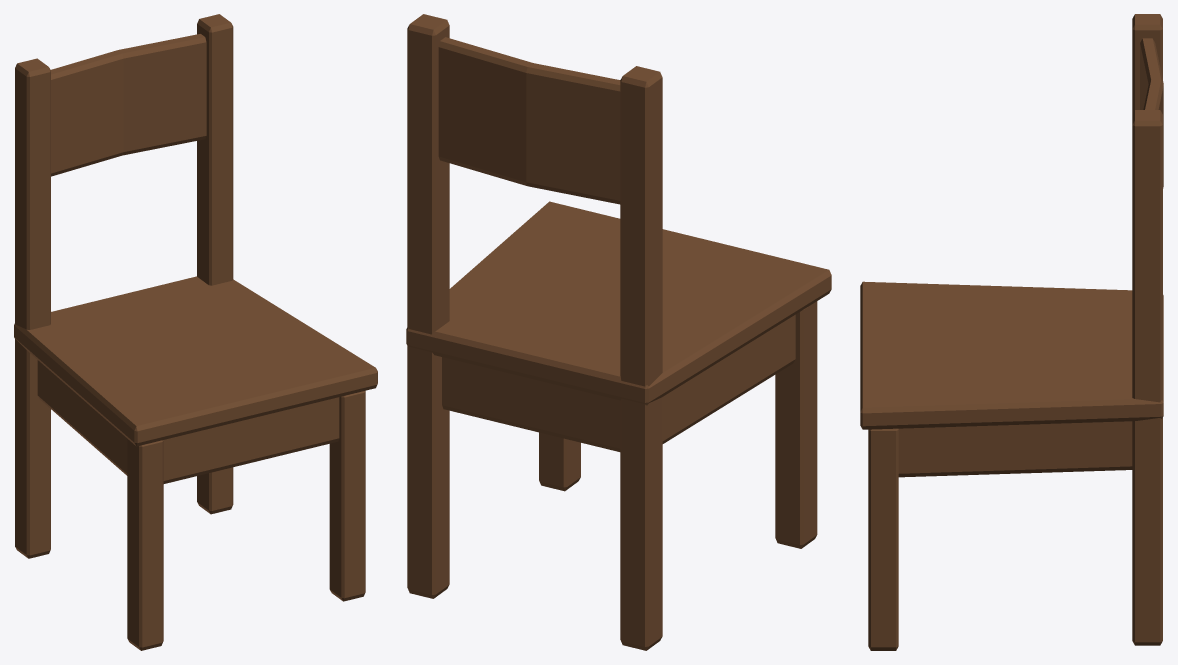
Rendered from tmp_chair.fbx.
3 renders of one model, left to right at view 1: azimuth 30°, elevation 25°; view 2: azimuth 150°, elevation 25°; view 3: azimuth 270°, elevation 25°, orthographic. The views are drawn at different scales.
Parts seen in each view (by area): view 1: Cube.013; view 2: Cube.013; view 3: Cube.013.
Boxes of the visible parts, <box> form: Cube.013: <box>14,14,377,650</box>; Cube.013: <box>406,14,831,650</box>; Cube.013: <box>860,14,1163,650</box>.
Bounding box in the file's own units: 49.94 × 95.42 × 50.
